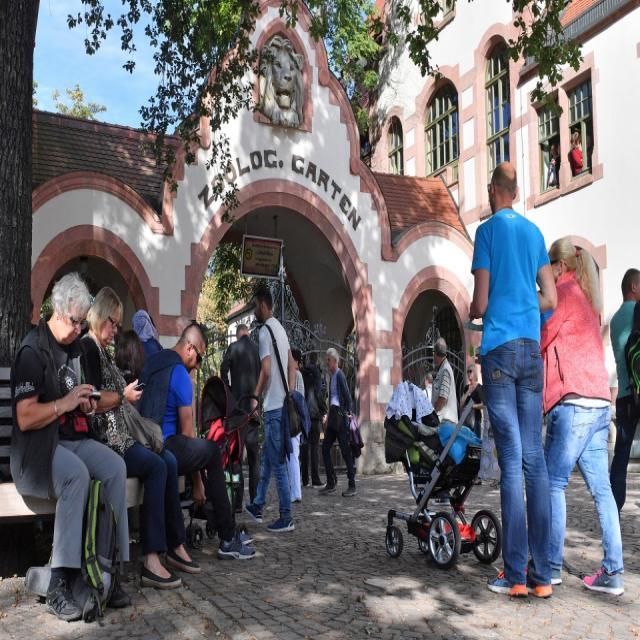body: (8, 268, 131, 622), (468, 159, 559, 602), (79, 285, 202, 590), (539, 235, 626, 597), (132, 320, 256, 563), (243, 281, 306, 534), (219, 321, 269, 511), (608, 266, 639, 526), (319, 346, 364, 497), (298, 348, 327, 490), (284, 346, 304, 504), (431, 338, 459, 428), (459, 361, 485, 440), (115, 328, 146, 387), (131, 308, 164, 363), (581, 128, 598, 203), (472, 362, 484, 441), (569, 130, 584, 178), (549, 141, 561, 190), (551, 139, 561, 189), (422, 372, 434, 404)
